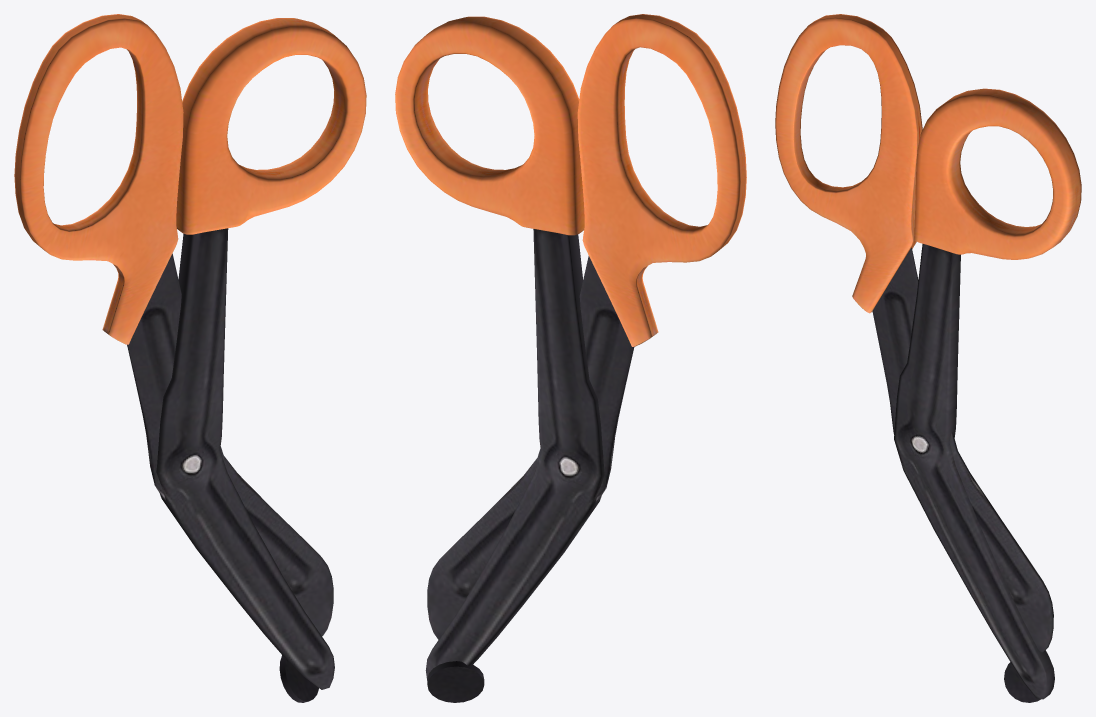
The model's file is tijera.obj.
The picture shows the model from 3 angles, left to right: view 1: azimuth 30°, elevation 25°; view 2: azimuth 150°, elevation 25°; view 3: azimuth 330°, elevation 25°; orthographic projection. The views are drawn at different scales.
Visible parts, largest first — view 1: polySurface6, polySurface3; view 2: polySurface6, polySurface3; view 3: polySurface6, polySurface3.
Boxes of the visible parts, <box> form: polySurface6: <box>156,18,366,702</box>; polySurface3: <box>14,14,333,636</box>; polySurface6: <box>395,16,604,702</box>; polySurface3: <box>427,14,746,639</box>; polySurface6: <box>894,88,1081,702</box>; polySurface3: <box>775,14,1053,652</box>.
Size of the model in its own units: 0.4561 by 0.9313 by 0.0489.
